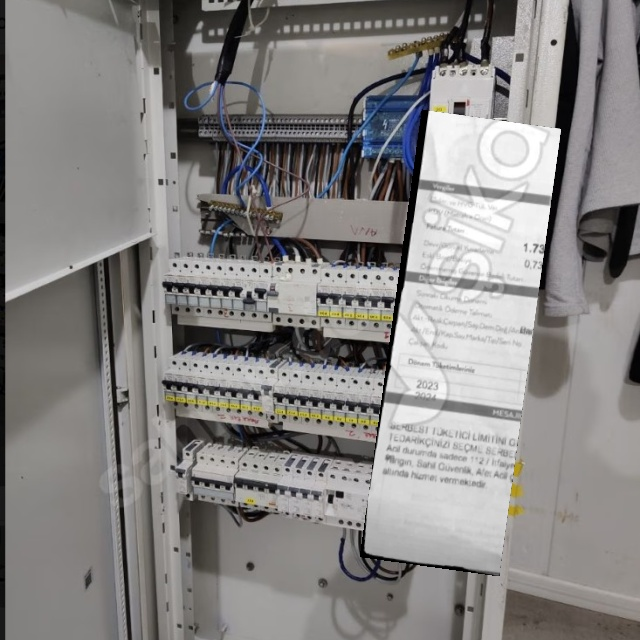electricity-bill: (359, 108, 561, 576)
